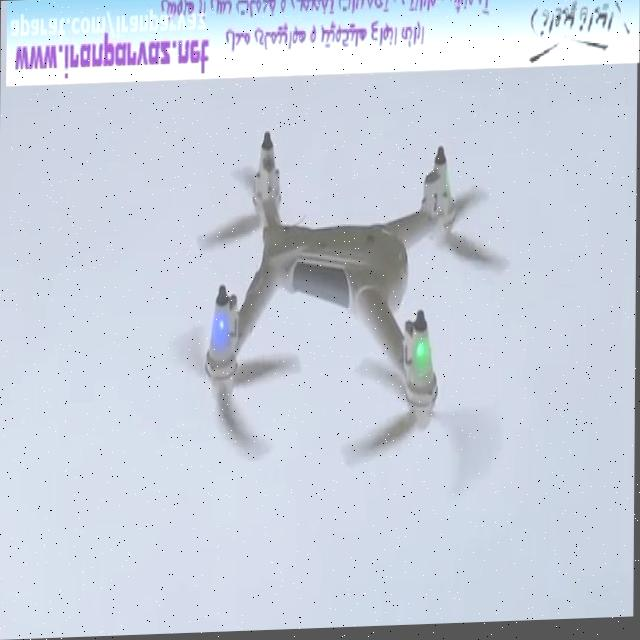drone: (161, 122, 513, 511)
